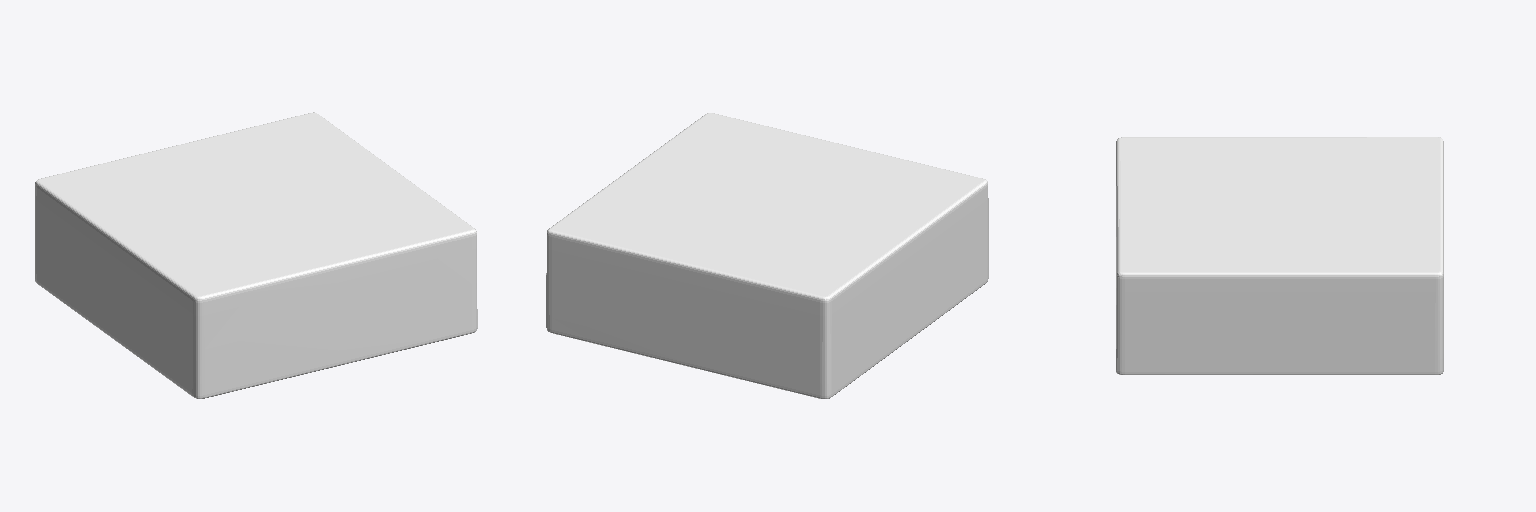
The picture shows the model from 3 angles: view 1: azimuth 30°, elevation 25°; view 2: azimuth 150°, elevation 25°; view 3: azimuth 270°, elevation 25°; orthographic projection.
Parts seen in each view (by area): view 1: tapareg3:_gift_box; view 2: tapareg3:_gift_box; view 3: tapareg3:_gift_box.
Boxes of the visible parts, x1,y1,x2,y2 form: tapareg3:_gift_box: [35, 112, 477, 398]; tapareg3:_gift_box: [546, 113, 988, 398]; tapareg3:_gift_box: [1116, 137, 1443, 374].
Bounding box in the file's own units: 0.4244 × 0.1464 × 0.4256.
1 materials, 1 textured.